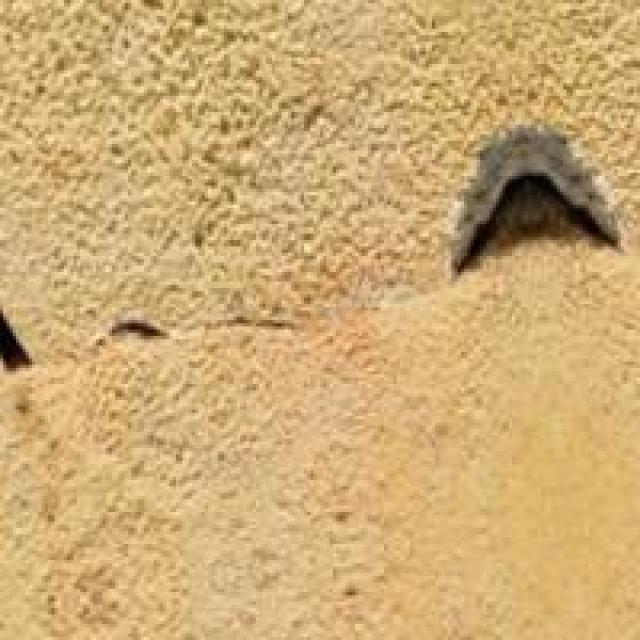Crack: (6, 125, 636, 419)
